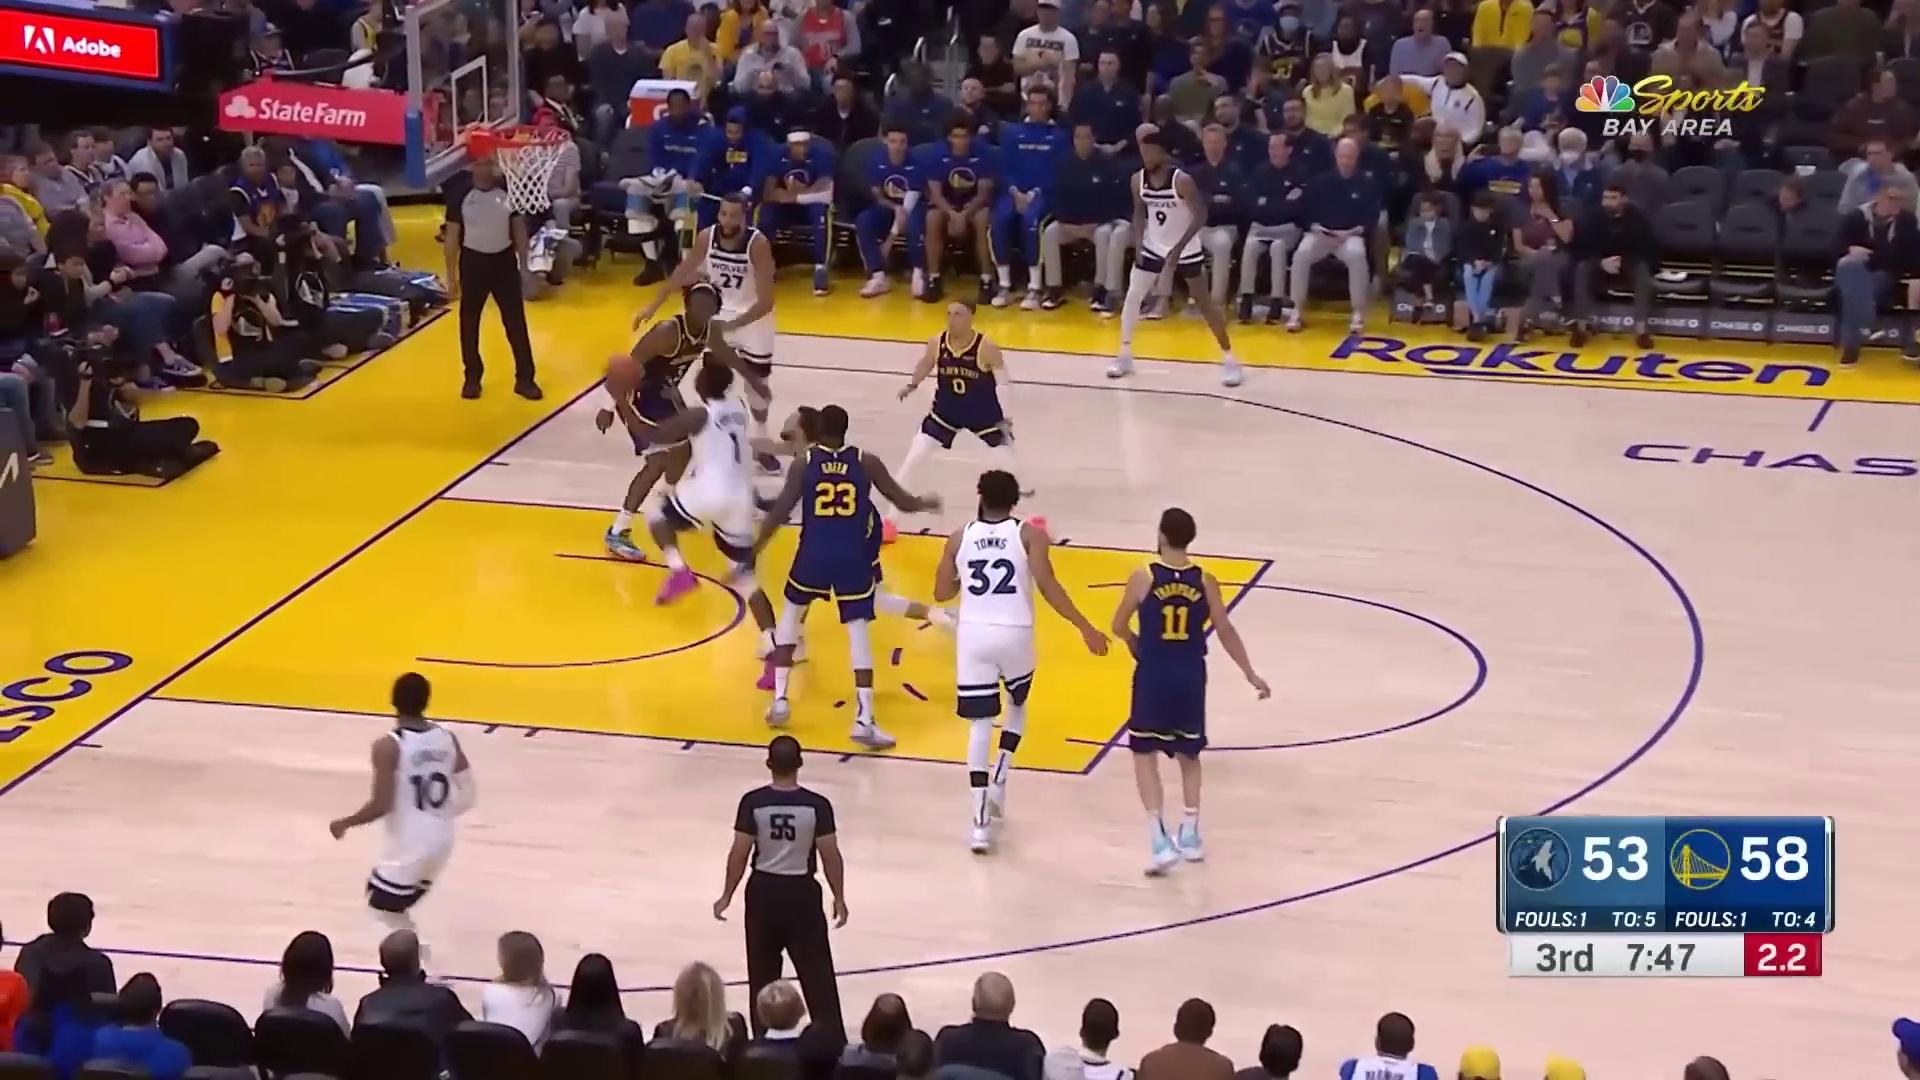Ball: (601, 343, 643, 398)
Player: (926, 461, 1114, 854), (1101, 501, 1279, 884), (623, 351, 793, 694), (748, 398, 969, 661), (588, 269, 769, 564), (881, 293, 1073, 551), (329, 669, 479, 993), (763, 403, 898, 751), (629, 196, 789, 479), (1106, 128, 1254, 389)
Rim: (403, 1, 593, 211)
